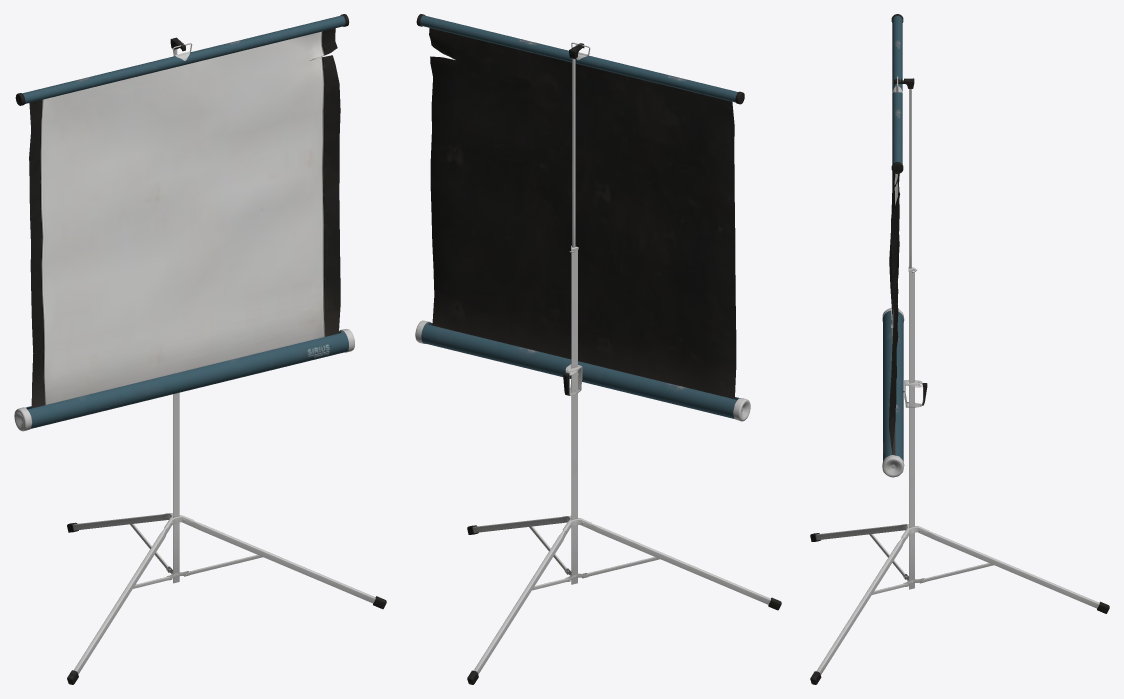
The model's file is projector_screen.glb.
3 views of the same model, side by side, from view 1: azimuth 30°, elevation 25°; view 2: azimuth 150°, elevation 25°; view 3: azimuth 270°, elevation 25° (orthographic). The views are drawn at different scales.
Visible parts, largest first — view 1: projector_screen, projector_screen_frame; view 2: projector_screen, projector_screen_frame; view 3: projector_screen, projector_screen_frame.
Part boxes in pixels (x1,y1,x2,y2): projector_screen: (14,14,354,431); projector_screen_frame: (67,392,386,684); projector_screen: (415,14,750,421); projector_screen_frame: (467,245,781,684); projector_screen: (882,14,927,477); projector_screen_frame: (810,267,1109,684).
Bounding box in the file's own units: 1.09 × 1.8 × 0.9158.
Materials: 2 (2 with a texture image).
